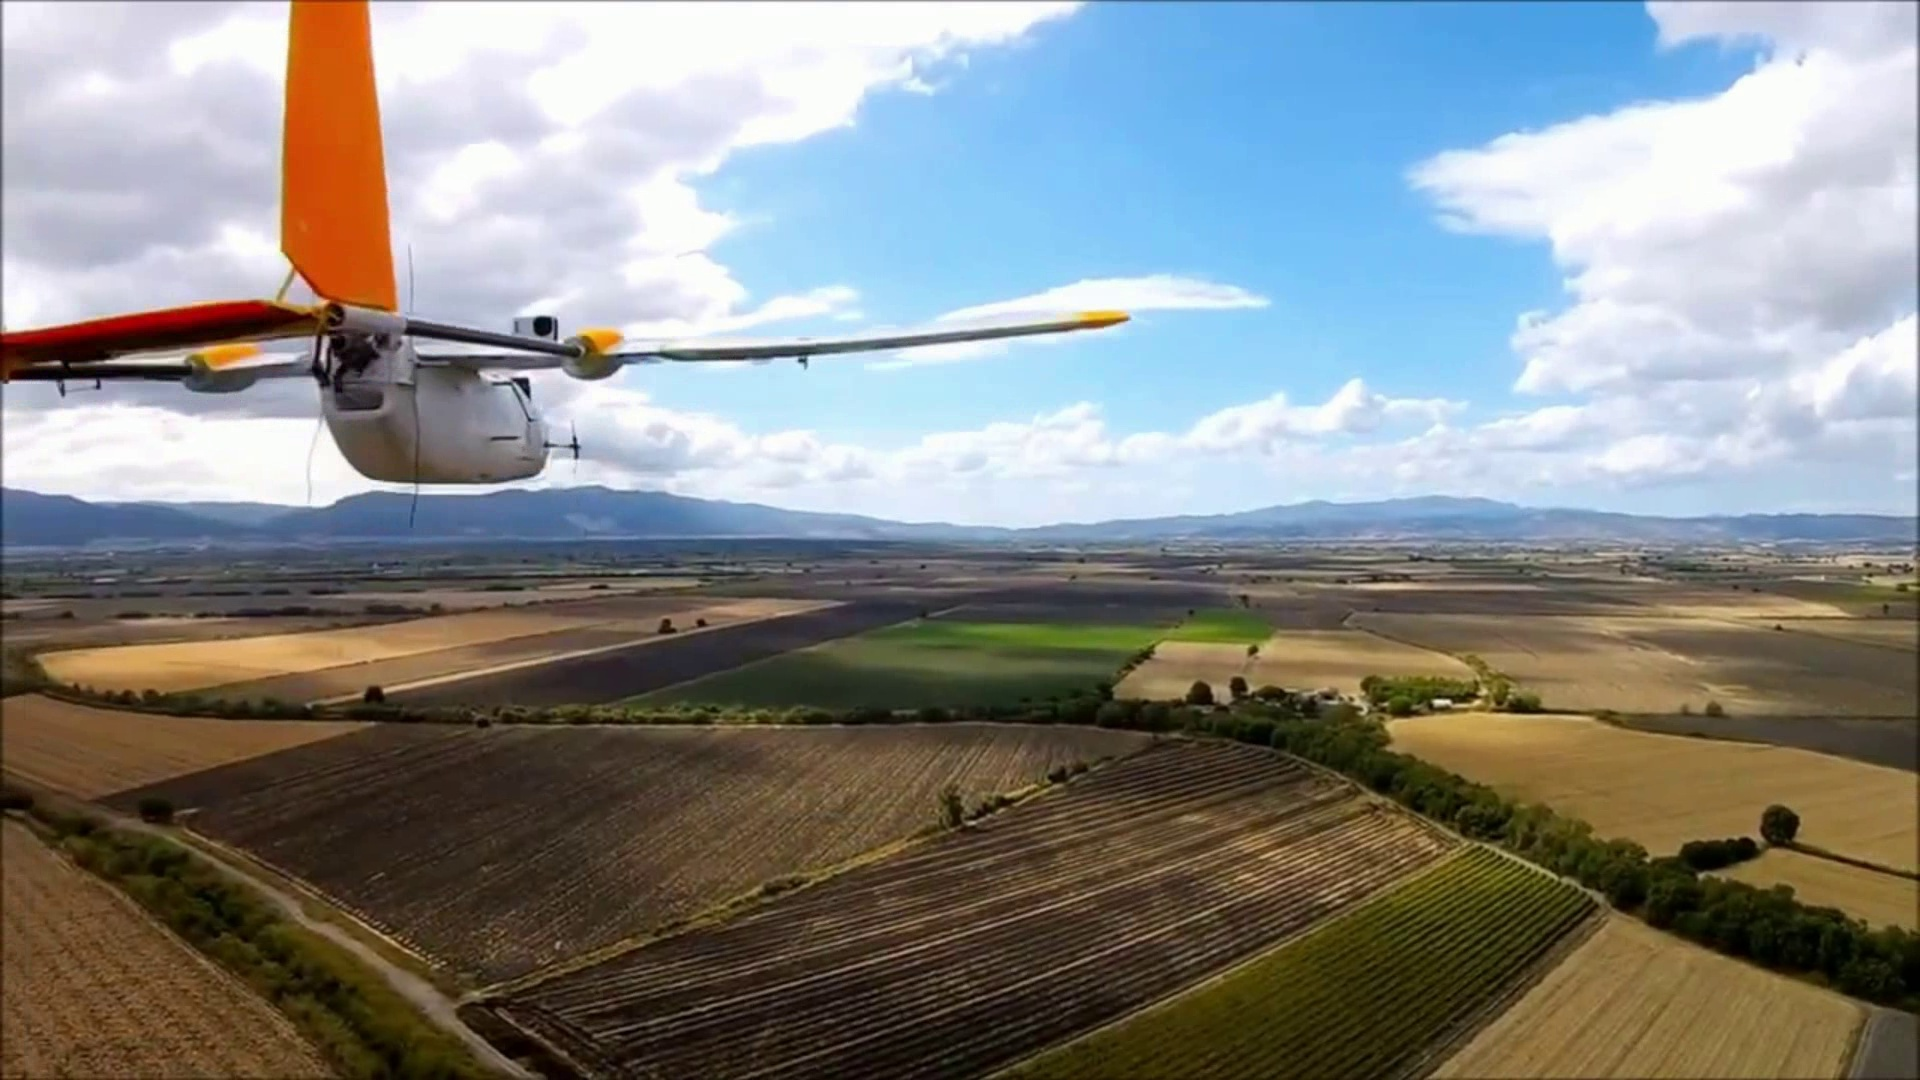airplane: (4, 7, 1263, 492)
